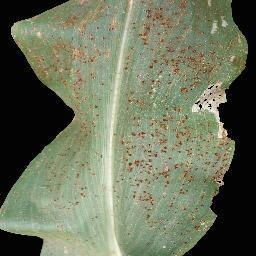Corn_Common_Rust: (0, 124, 251, 256), (9, 0, 250, 129)
